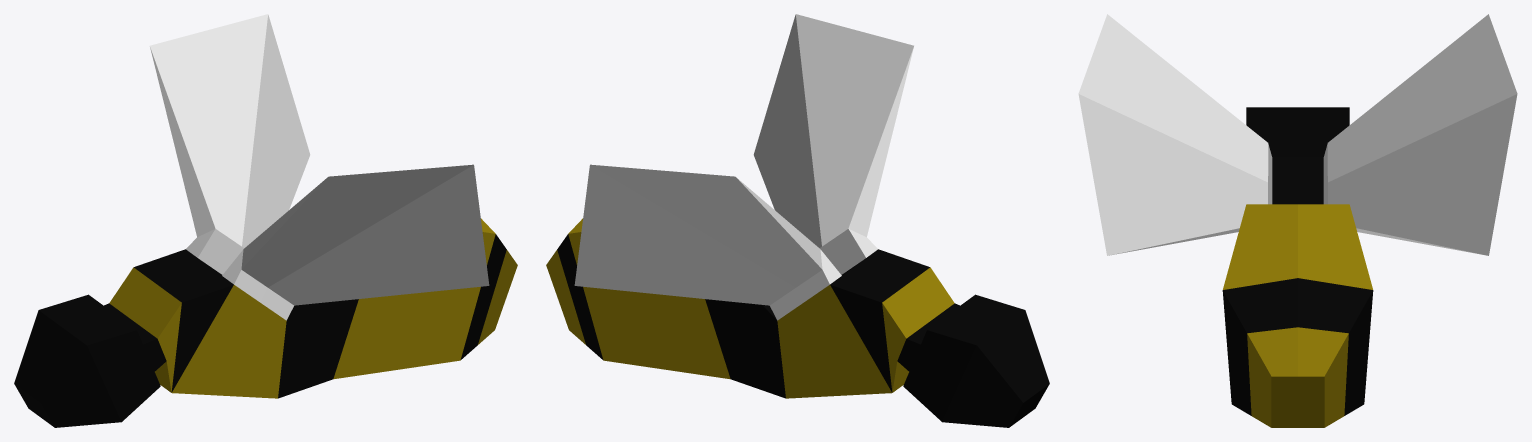
Rendered from PCHELKA.fbx.
The picture shows the model from 3 angles, left to right: view 1: azimuth 30°, elevation 25°; view 2: azimuth 150°, elevation 25°; view 3: azimuth 270°, elevation 25°; orthographic projection. The views are drawn at different scales.
Visible parts, largest first — view 1: bee; view 2: bee; view 3: bee.
Boxes of the visible parts, x1,y1,x2,y2 form: bee: [14, 14, 517, 427]; bee: [546, 14, 1049, 427]; bee: [1078, 14, 1517, 427].
Bounding box in the file's own units: 697 × 401 × 520.
